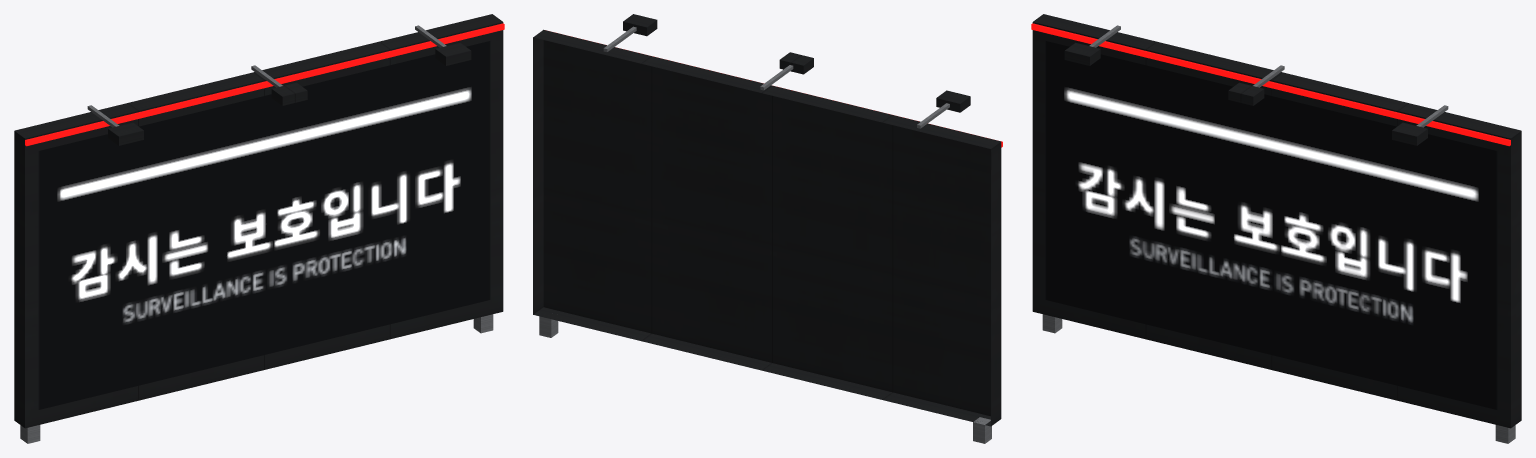
Rendered from SM_INFD_Billboard_1.fbx.
3 renders of one model, left to right at view 1: azimuth 30°, elevation 25°; view 2: azimuth 150°, elevation 25°; view 3: azimuth 330°, elevation 25°, orthographic. The views are drawn at different scales.
Parts seen in each view (by area): view 1: SM_INFD_Billboard_1_LOD0; view 2: SM_INFD_Billboard_1_LOD0; view 3: SM_INFD_Billboard_1_LOD0.
Boxes of the visible parts, x1,y1,x2,y2 form: SM_INFD_Billboard_1_LOD0: [14, 14, 504, 443]; SM_INFD_Billboard_1_LOD0: [533, 14, 1002, 443]; SM_INFD_Billboard_1_LOD0: [1031, 14, 1521, 443].
Size of what is drawn, in the model's own units: 7.6 by 4.84 by 1.15.
